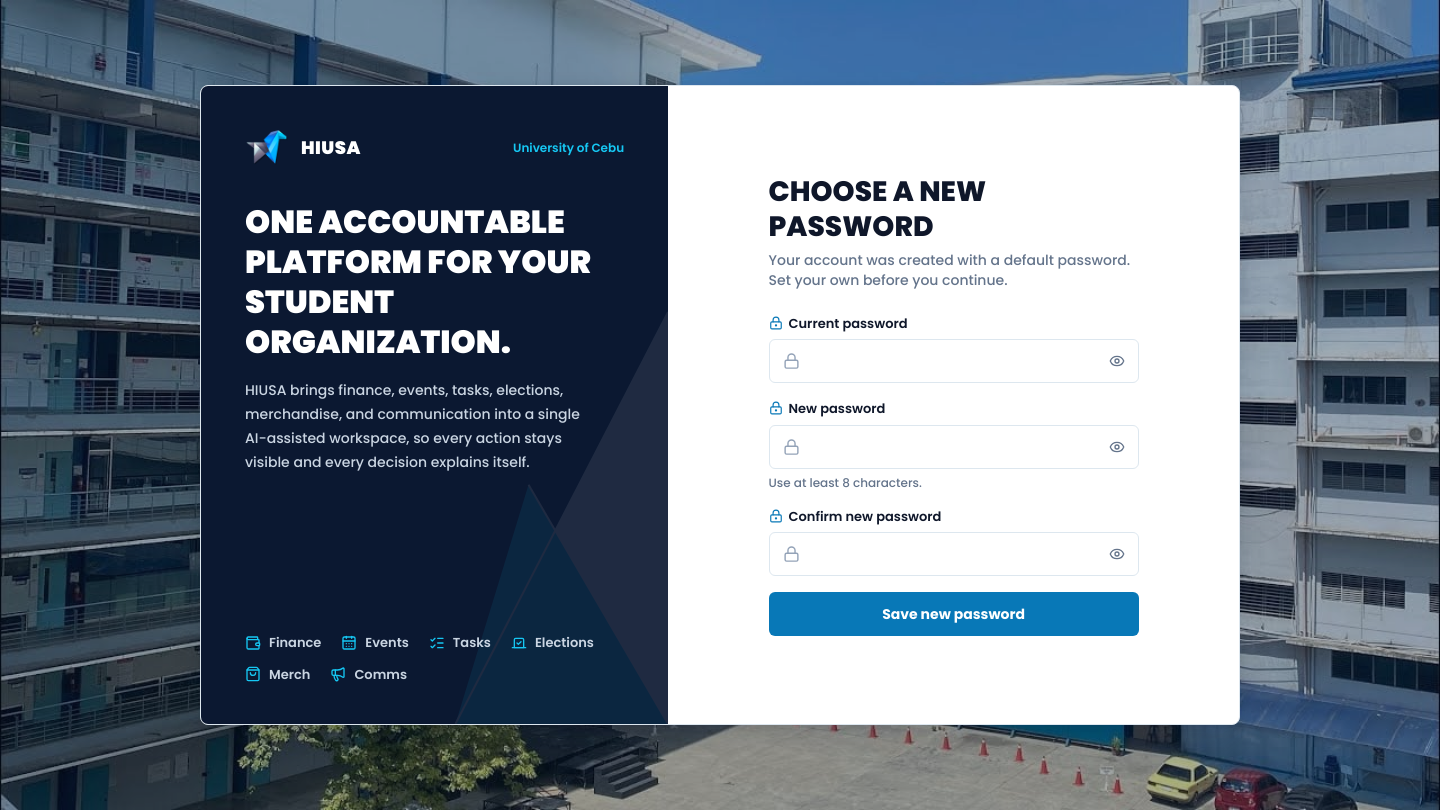
Test: ChangePasswordPage › puts a reused default password on the new password field
The width and height of the screenshot is (1440, 810).
Type "4321-uclm" into the password field labelled "Current password".
click(954, 361); type("4321-uclm")  # box [768,339,1138,383]
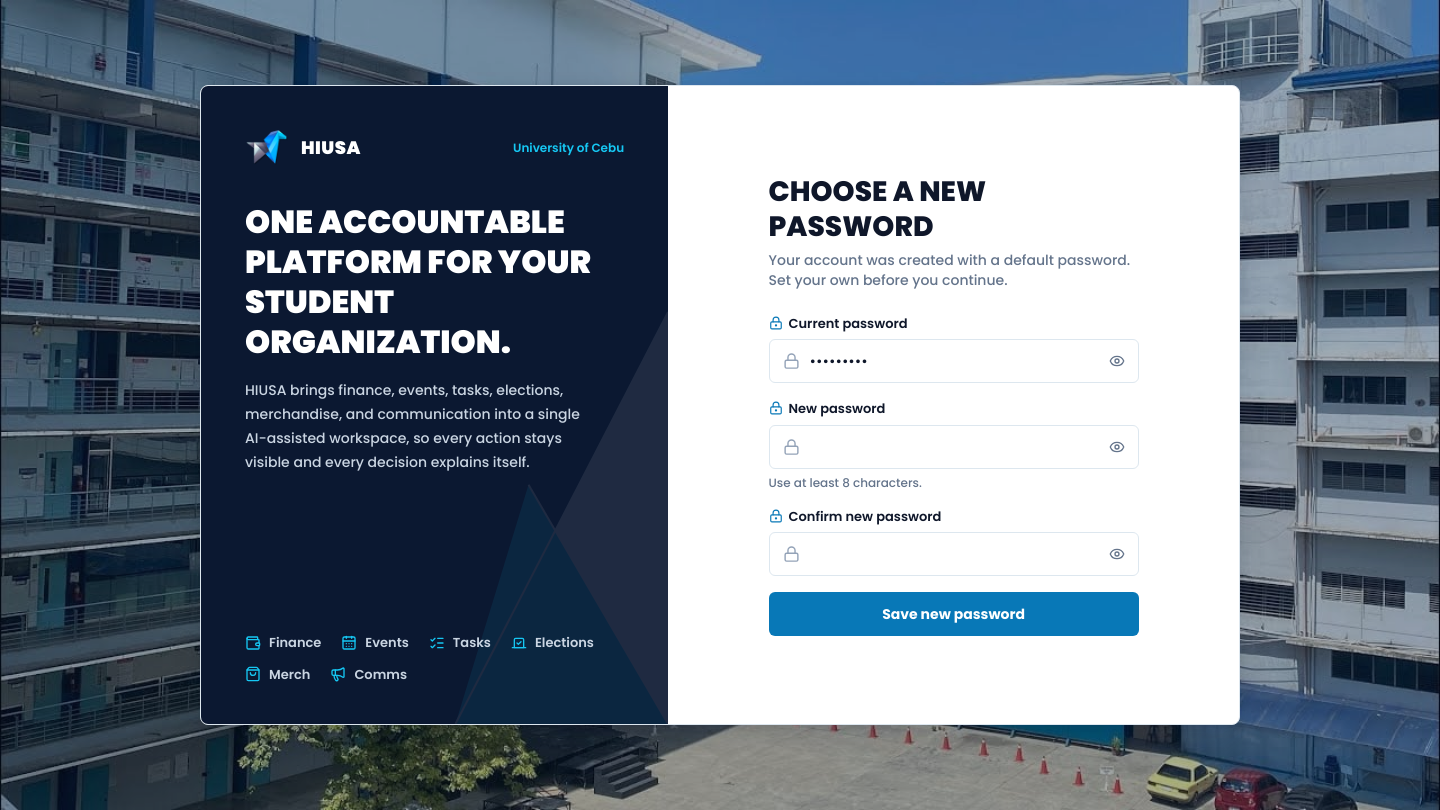
Type "4321-uclm" into the password field labelled "New password".
click(954, 447); type("4321-uclm")  # box [768,425,1138,469]
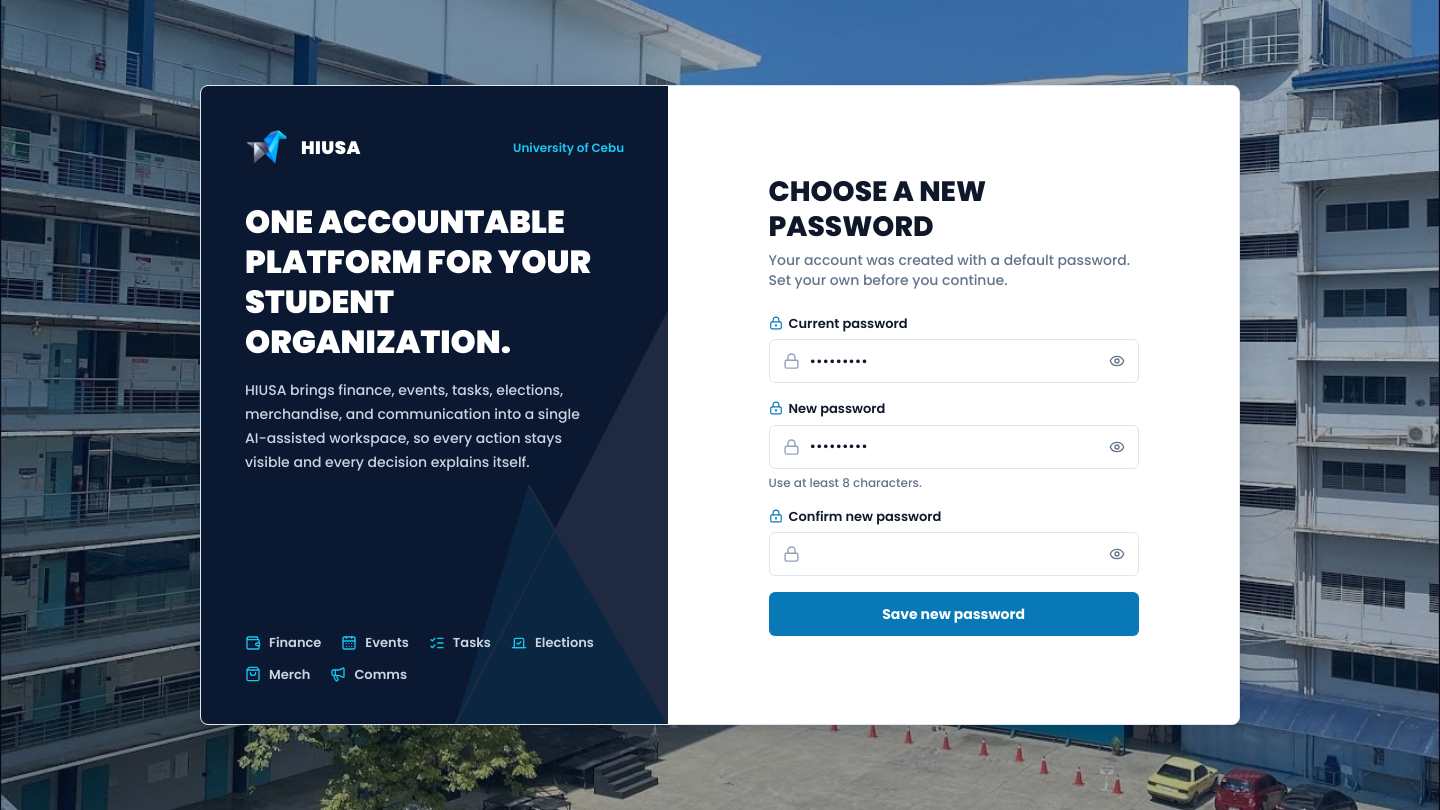
Type "4321-uclm" into the password field labelled "Confirm new password".
click(954, 554); type("4321-uclm")  # box [768,532,1138,576]
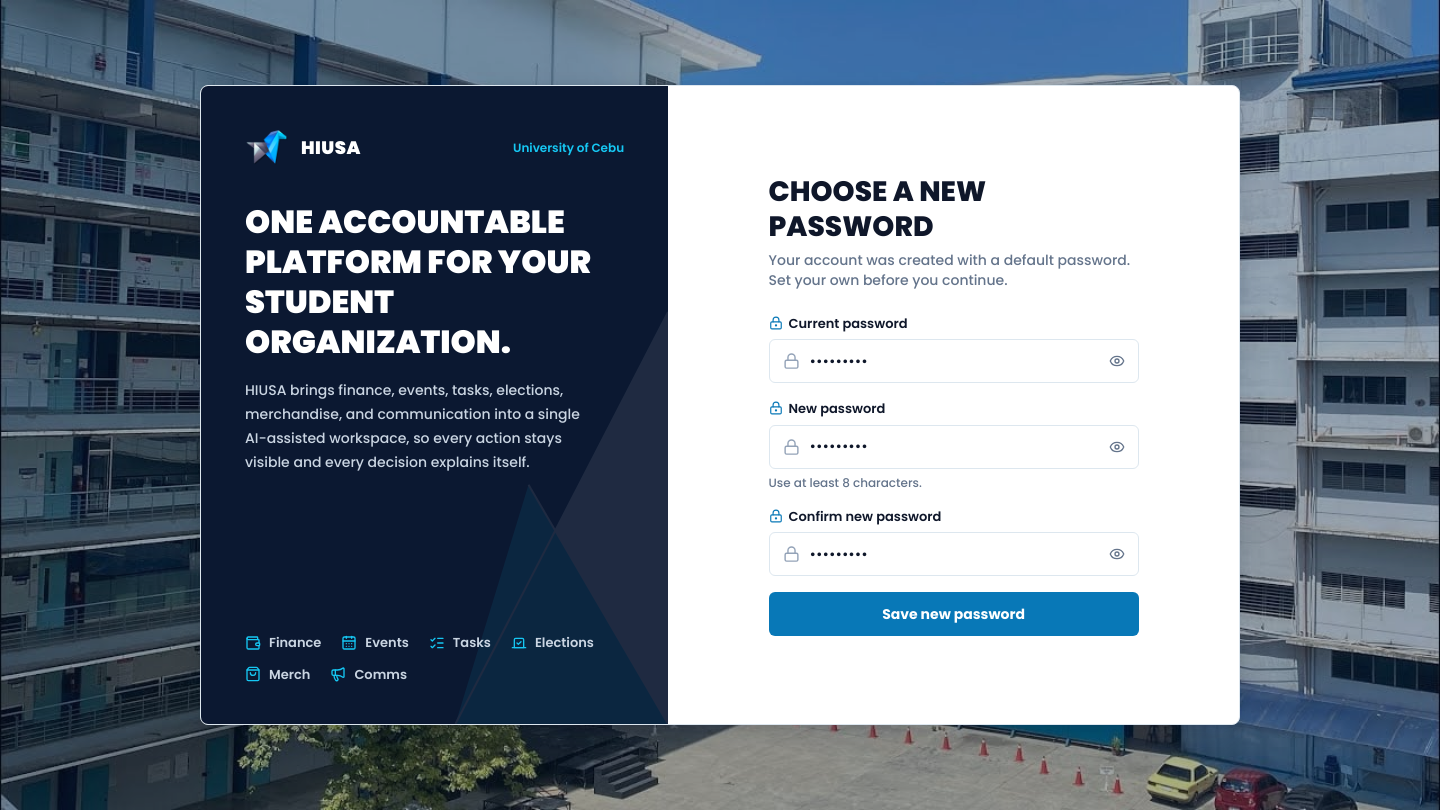
Click the button "Save new password".
click(954, 614)  # box [768,592,1138,636]
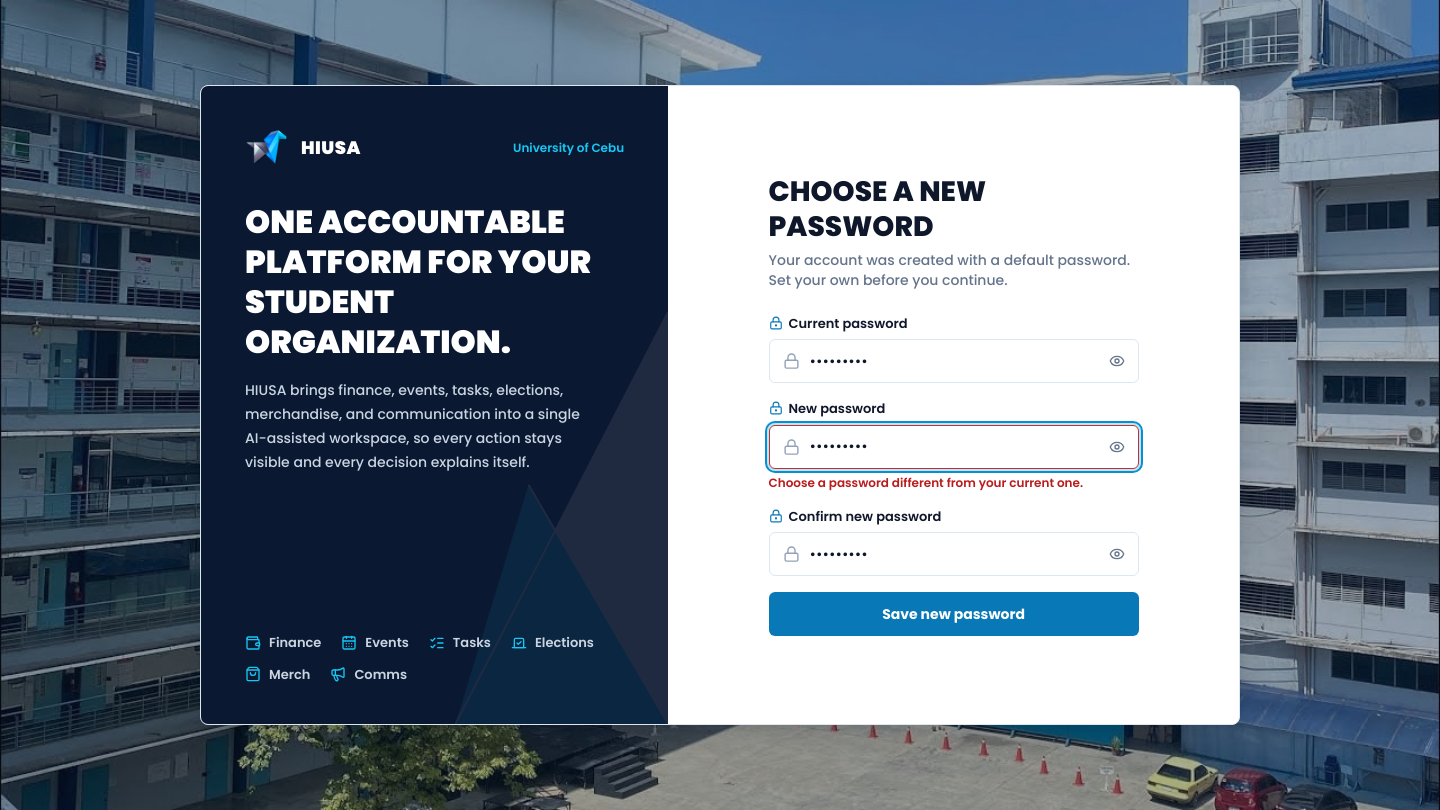
Now the text "Choose a password different from your current one." is shown, box [768,475,1138,491]
